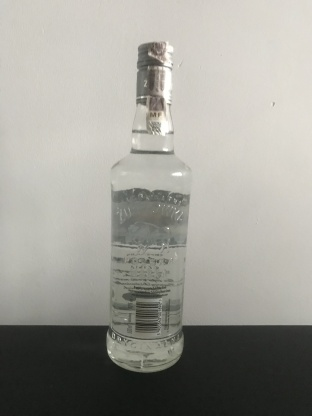nakretka: (134, 39, 174, 106)
